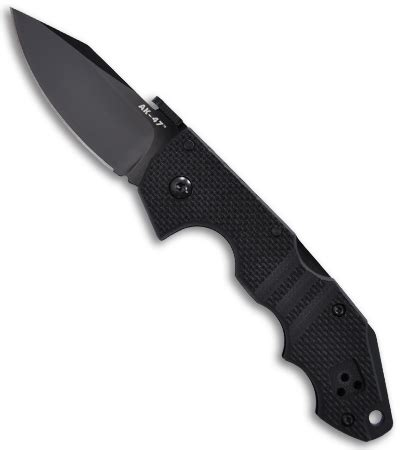knife: (11, 9, 394, 440)
